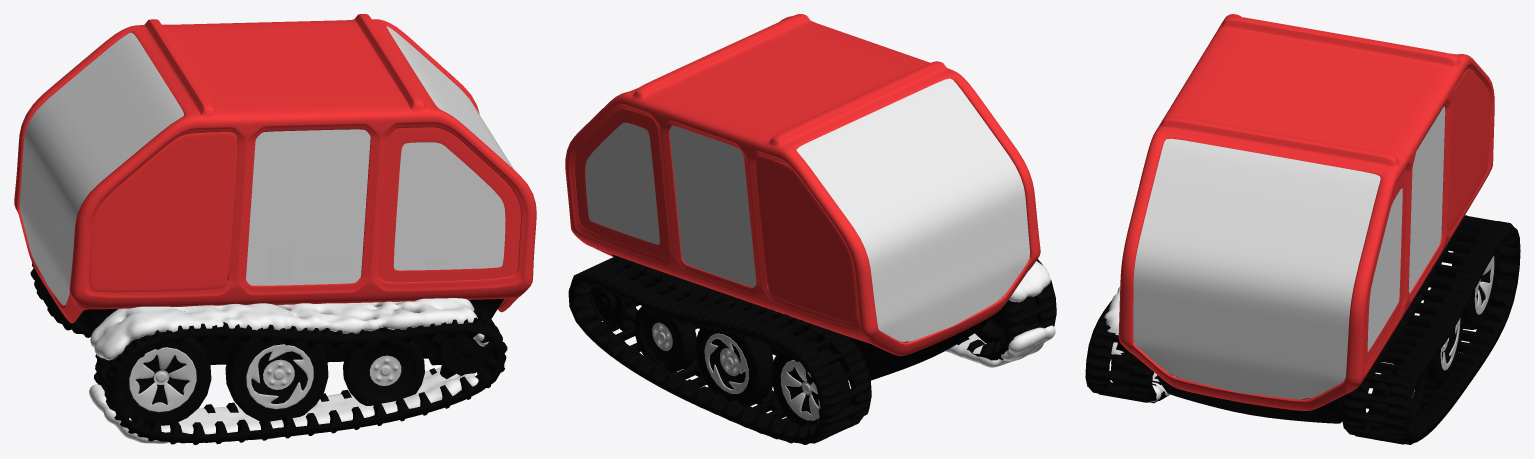
Rendered from carrito.fbx.
3 views of the same model, side by side, from view 1: azimuth 30°, elevation 25°; view 2: azimuth 150°, elevation 25°; view 3: azimuth 270°, elevation 25° (orthographic). The views are drawn at different scales.
Parts seen in each view (by area): view 1: cabin.001_Cube.004; view 2: cabin.001_Cube.004; view 3: cabin.001_Cube.004.
Boxes of the visible parts, box(x1,y1,x2,y2) form: cabin.001_Cube.004: box(14, 14, 536, 444); cabin.001_Cube.004: box(565, 14, 1056, 444); cabin.001_Cube.004: box(1085, 14, 1520, 444).
Bounding box in the file's own units: 434 × 292 × 365.
